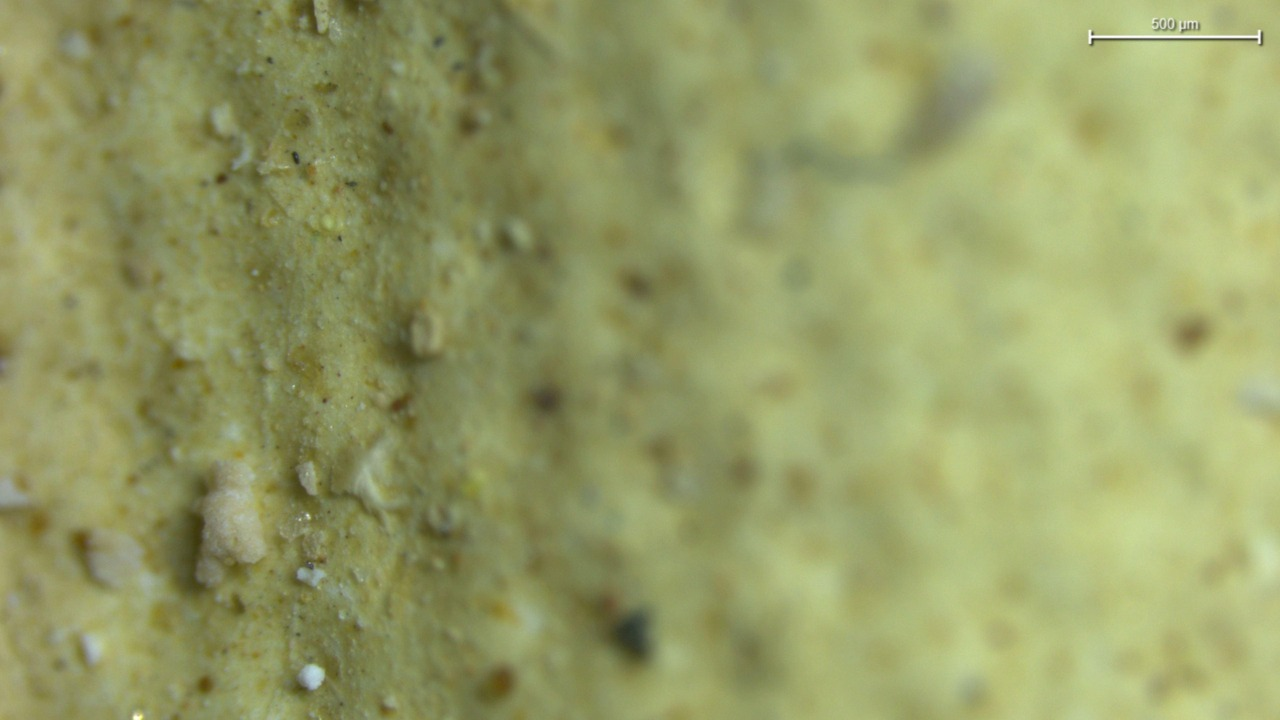microplastic_fragment: (196, 460, 268, 589), (293, 461, 318, 497), (298, 664, 325, 690)
